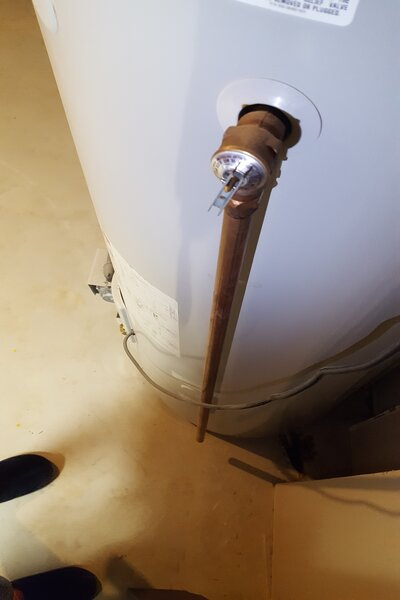valve: (209, 108, 289, 225)
